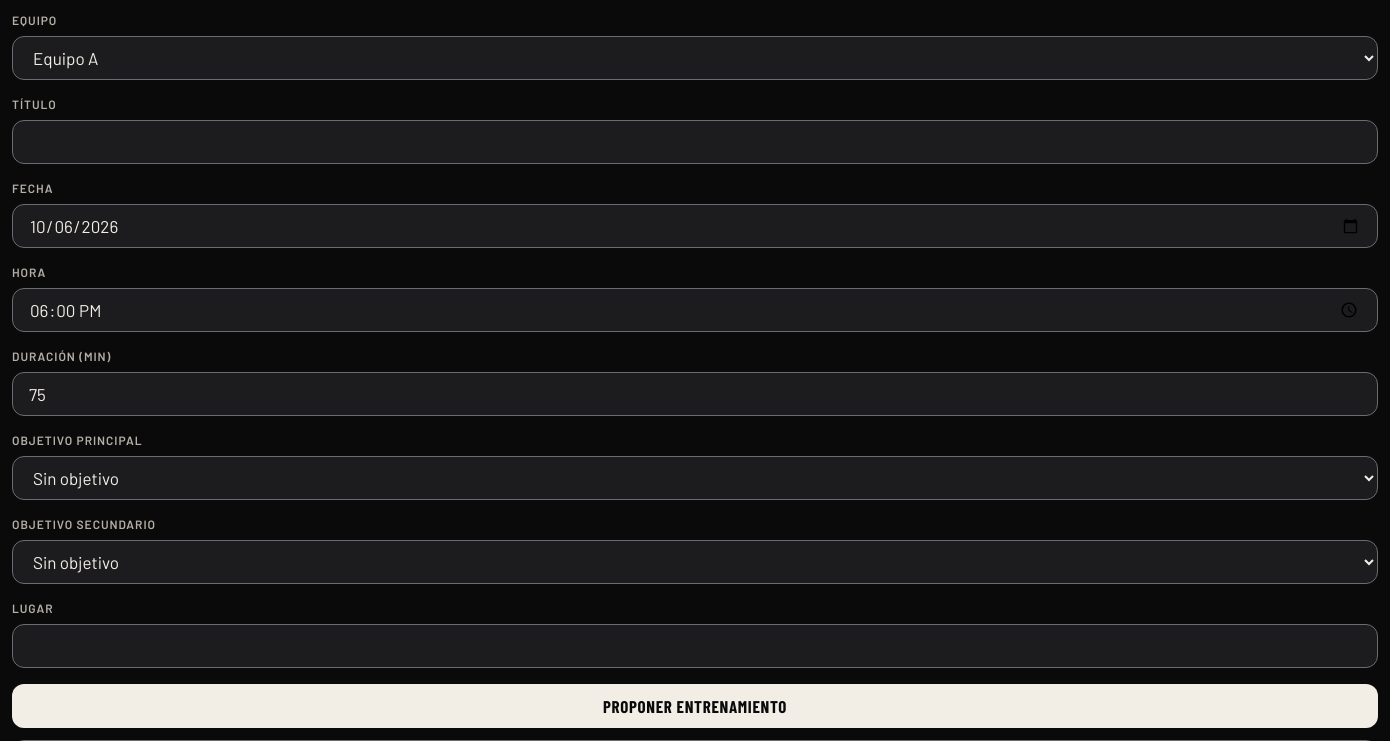
Test: PracticeForm · lo que trae cada equipo › al cambiar de equipo pone la hora, la duración y el lugar de su última sesión
The width and height of the screenshot is (1390, 741).
Select "Equipo B" in the dropdown labelled "Equipo" at (695, 58), box x1=12 y1=36 x2=1378 y2=80
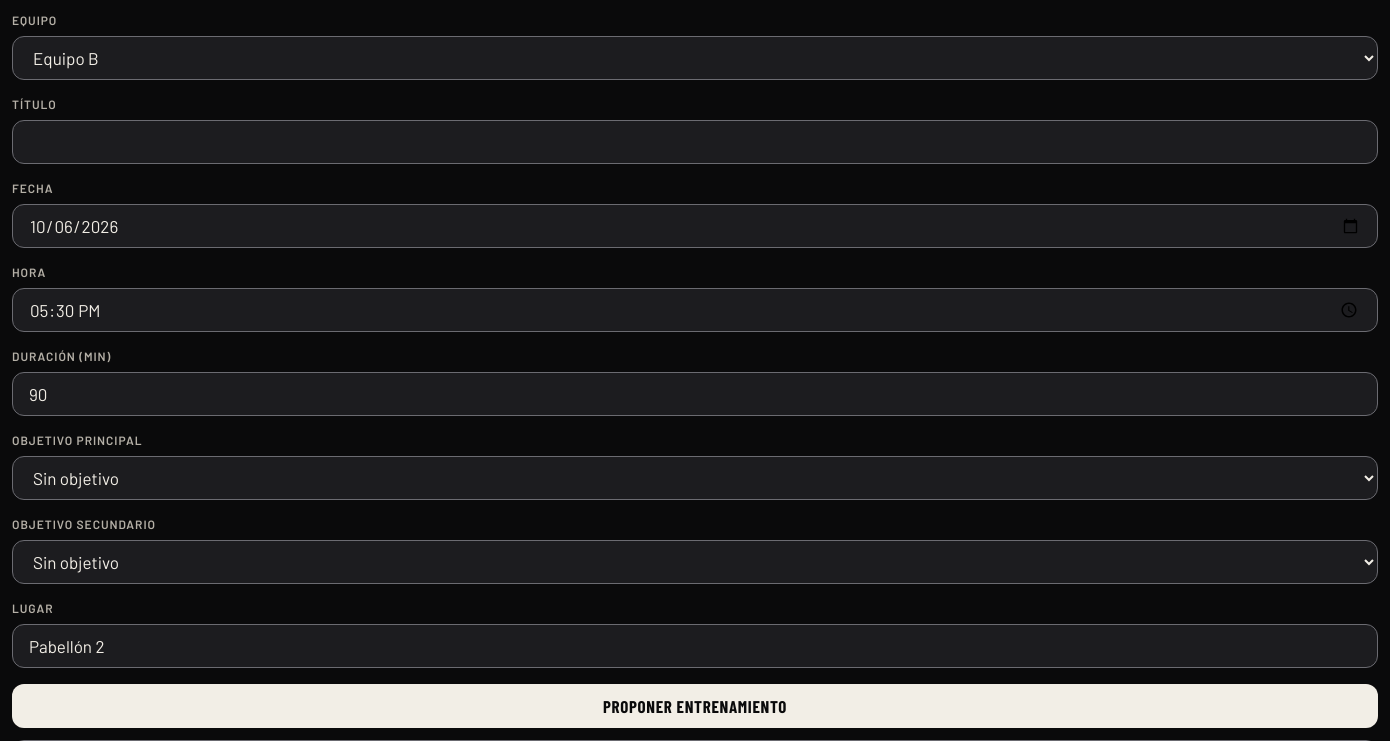
Now the time field labelled "Hora" holds "17:30", box x1=12 y1=288 x2=1378 y2=332
Now the number field labelled "Duración (min)" holds "90", box x1=12 y1=372 x2=1378 y2=416
Now the field labelled "Lugar" holds "Pabellón 2", box x1=12 y1=624 x2=1378 y2=668
